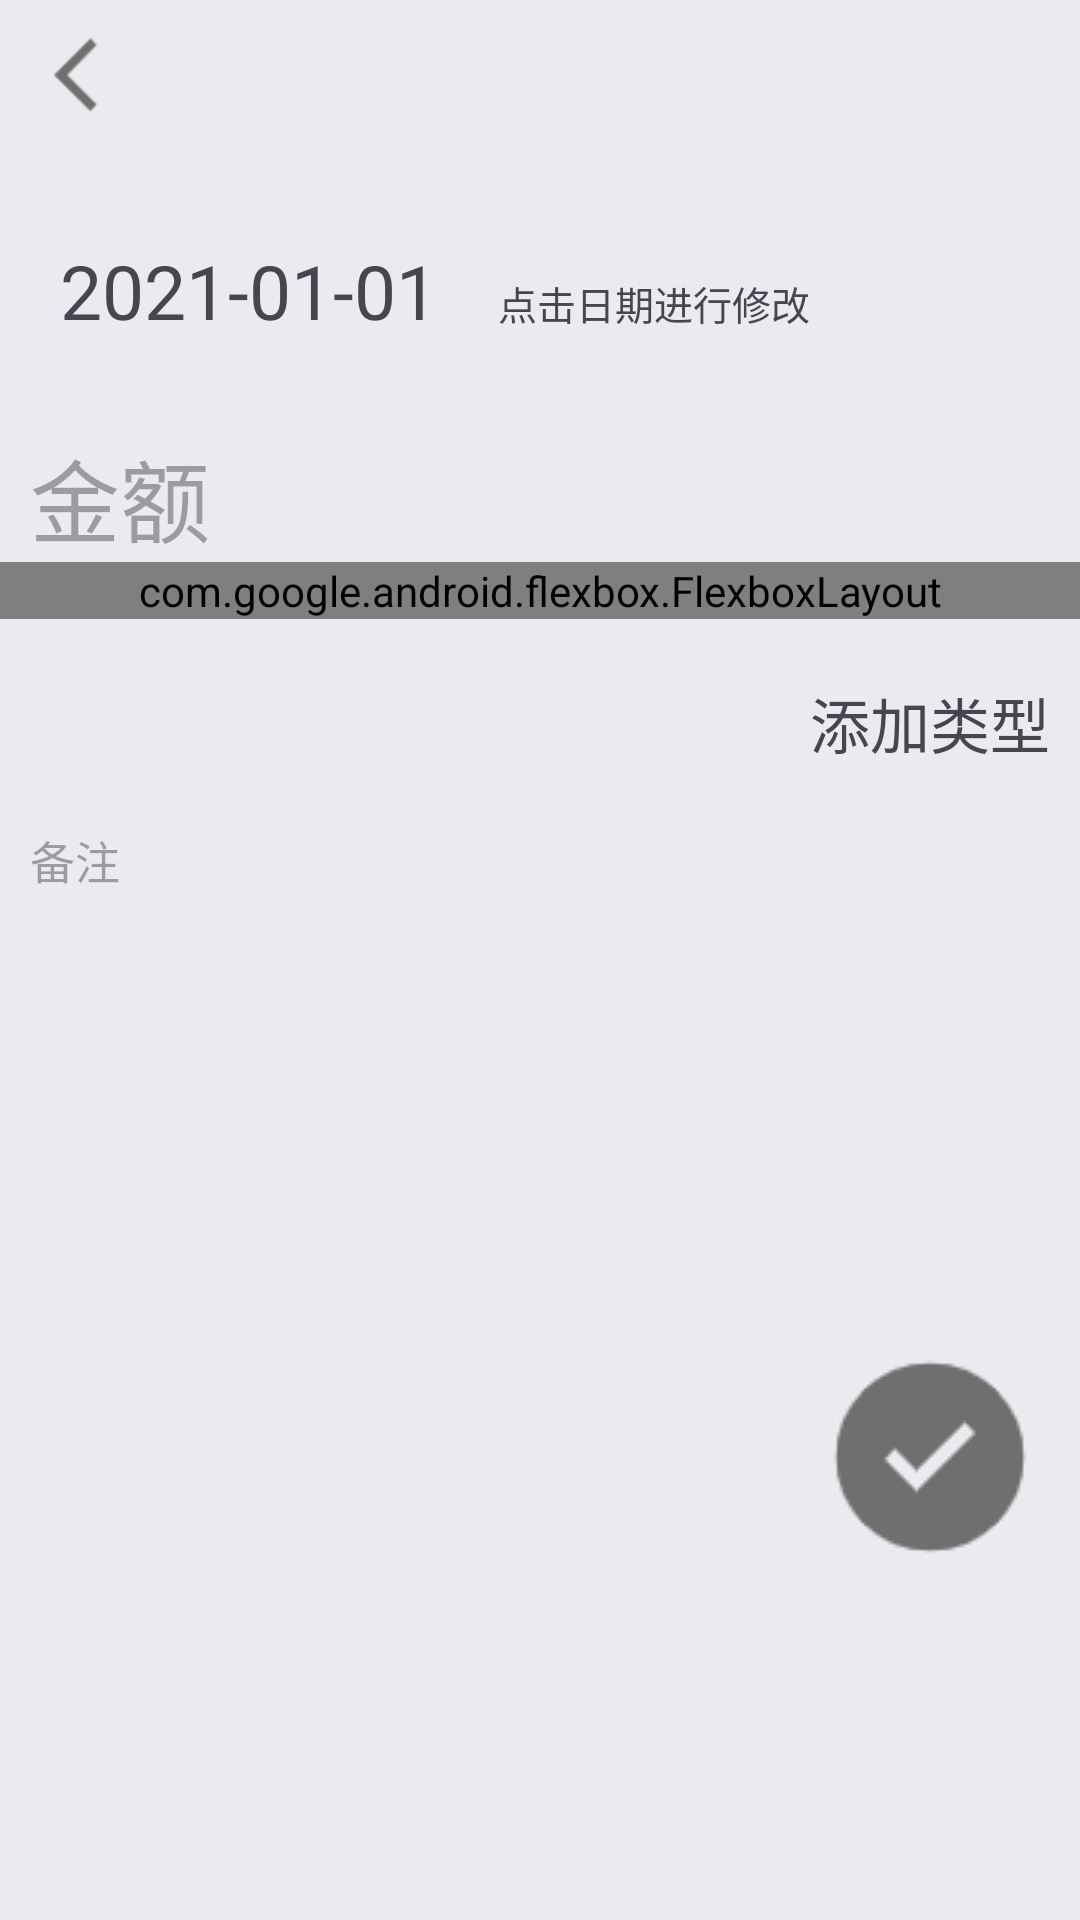

Icon click points for this 1080*1920 phone screenshot, format (x=x, y=y):
add record confirm: (x=930, y=1457)
return: (x=75, y=74)
